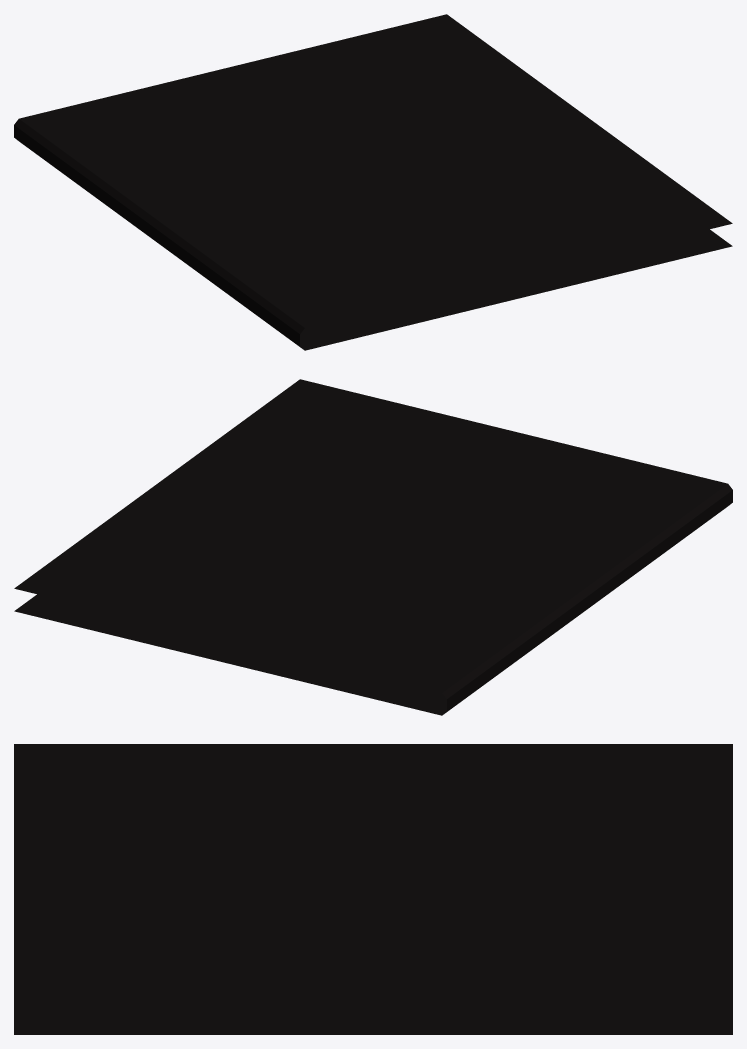
The model's file is BarShelft2.fbx.
3 views of the same model, one above another, from view 1: azimuth 30°, elevation 25°; view 2: azimuth 150°, elevation 25°; view 3: azimuth 270°, elevation 25° (orthographic). The views are drawn at different scales.
Parts seen in each view (by area): view 1: Plane.196; view 2: Plane.196; view 3: Plane.196.
Part boxes in pixels (bbox=[...]): Plane.196: bbox=[14, 14, 732, 350]; Plane.196: bbox=[14, 379, 732, 715]; Plane.196: bbox=[14, 744, 732, 1034].
Bounding box in the file's own units: 44.63 × 2.23 × 51.09.
Materials: 1 (1 with a texture image).
